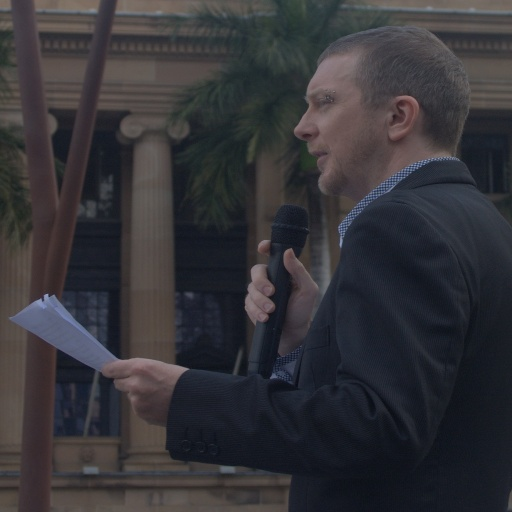hand: (241, 237, 322, 353), (93, 355, 194, 428)
